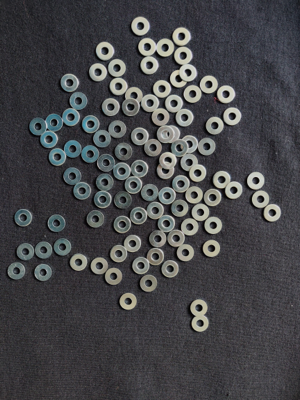circle: (13, 208, 34, 228), (96, 41, 115, 61), (131, 17, 151, 36), (172, 27, 192, 46), (88, 63, 108, 82), (6, 262, 26, 281), (202, 240, 222, 259), (90, 256, 109, 276), (119, 293, 139, 312), (191, 315, 211, 334), (108, 59, 127, 78), (206, 116, 225, 135), (48, 215, 67, 234), (34, 264, 53, 283), (109, 244, 128, 263), (139, 274, 158, 293), (60, 74, 80, 92), (44, 113, 64, 131), (214, 170, 232, 190), (138, 38, 157, 56), (175, 47, 194, 65), (140, 57, 159, 75), (169, 70, 188, 88), (180, 64, 199, 82), (184, 85, 203, 103), (200, 76, 218, 95), (217, 86, 236, 104), (93, 130, 112, 148), (181, 154, 200, 172), (264, 204, 283, 222), (204, 189, 223, 207), (114, 191, 133, 209), (205, 217, 224, 235), (113, 216, 132, 234), (86, 211, 105, 229), (16, 243, 35, 261), (124, 235, 143, 253), (157, 37, 174, 57), (126, 87, 144, 105), (166, 95, 184, 113), (102, 99, 120, 117), (69, 92, 87, 110), (224, 108, 242, 126), (109, 120, 127, 138), (29, 117, 47, 135), (82, 146, 100, 164), (115, 143, 133, 161), (144, 139, 162, 157), (248, 172, 266, 190), (252, 191, 270, 209), (157, 162, 175, 180), (49, 148, 67, 166), (74, 182, 92, 200), (94, 191, 112, 209), (159, 187, 177, 205), (35, 242, 53, 260), (54, 238, 72, 256), (158, 215, 176, 233), (168, 230, 186, 248), (133, 257, 151, 275), (161, 261, 179, 279), (190, 299, 208, 317), (70, 253, 87, 272), (154, 80, 171, 99), (109, 78, 128, 95), (141, 95, 160, 112), (151, 109, 170, 126), (63, 168, 82, 185), (192, 204, 211, 221), (181, 219, 200, 236), (105, 267, 122, 286), (158, 126, 175, 144), (163, 126, 180, 144), (199, 138, 216, 156), (40, 131, 58, 148), (65, 140, 82, 158), (189, 165, 207, 182), (226, 182, 243, 200), (98, 154, 115, 172), (113, 163, 130, 181), (131, 160, 149, 177), (125, 177, 143, 194), (186, 186, 203, 204), (96, 174, 115, 190), (146, 203, 165, 219), (178, 244, 194, 263), (176, 109, 193, 126), (123, 99, 140, 116), (82, 116, 99, 133), (63, 109, 80, 126), (160, 152, 177, 169), (173, 176, 190, 193), (172, 200, 189, 217), (149, 230, 166, 247), (182, 135, 198, 153), (130, 208, 148, 224), (172, 140, 188, 157), (132, 128, 148, 145), (142, 185, 159, 201), (148, 249, 164, 266)
